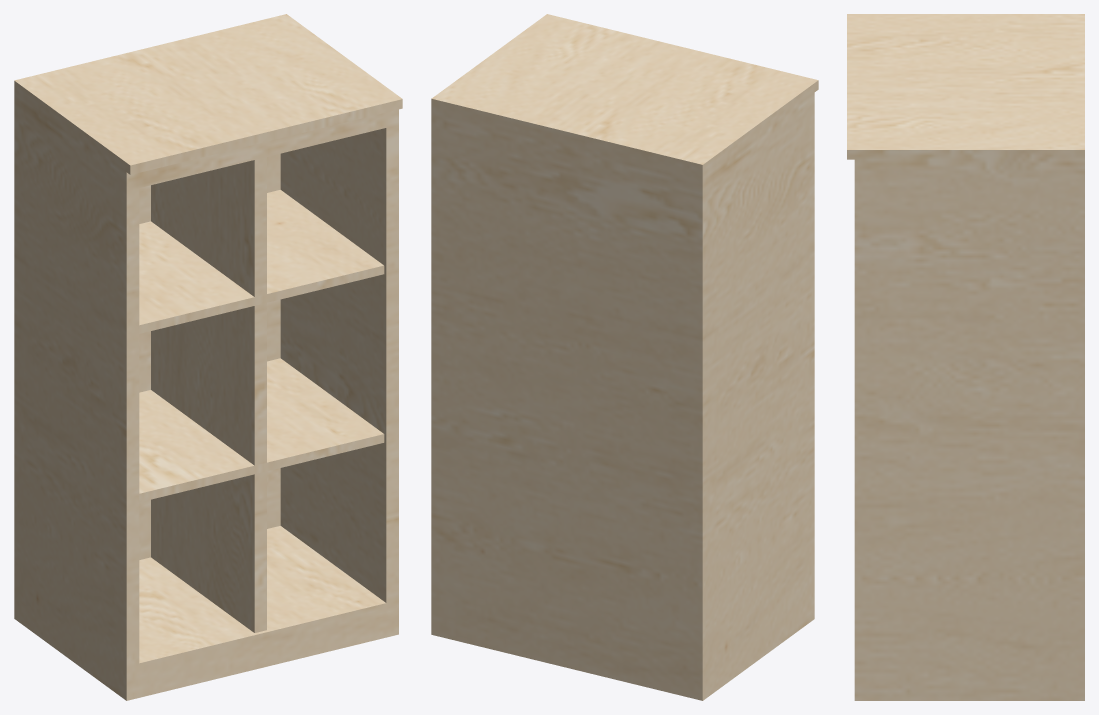
File: Closet32.fbx
3 renders of one model, left to right at view 1: azimuth 30°, elevation 25°; view 2: azimuth 150°, elevation 25°; view 3: azimuth 270°, elevation 25°, orthographic. The views are drawn at different scales.
Parts seen in each view (by area): view 1: Closet32; view 2: Closet32; view 3: Closet32.
Boxes of the visible parts, box(x1,y1,x2,y2) form: Closet32: box(14, 14, 402, 700); Closet32: box(431, 14, 818, 700); Closet32: box(847, 14, 1084, 700).
Size of the model in its own units: 62.2 by 117 by 45.95.
